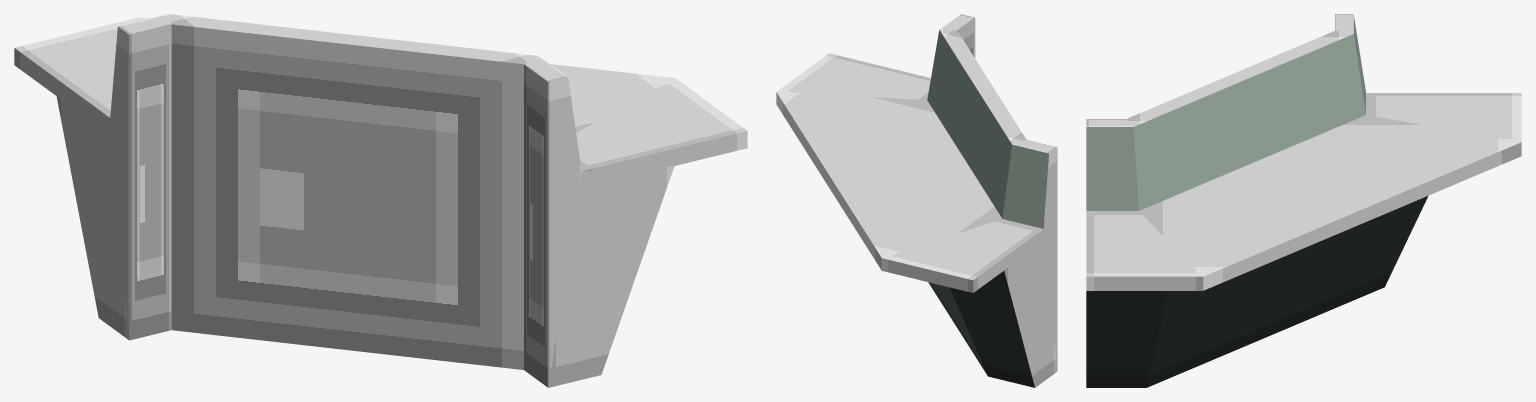
File: desk_corner_outside_1_item.obj
The picture shows the model from 3 angles, left to right: view 1: azimuth 30°, elevation 25°; view 2: azimuth 150°, elevation 25°; view 3: azimuth 270°, elevation 25°; orthographic projection. The views are drawn at different scales.
Bounding box in the file's own units: 1.75 × 1.1 × 1.75.
